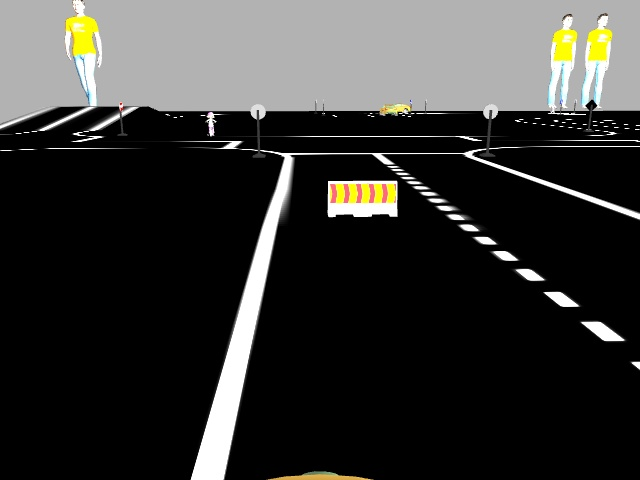ClosedRoadStand: (326, 179, 397, 215)
